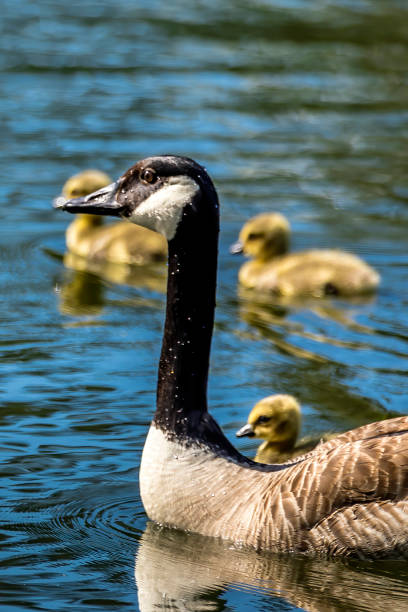goose: (52, 150, 408, 570)
